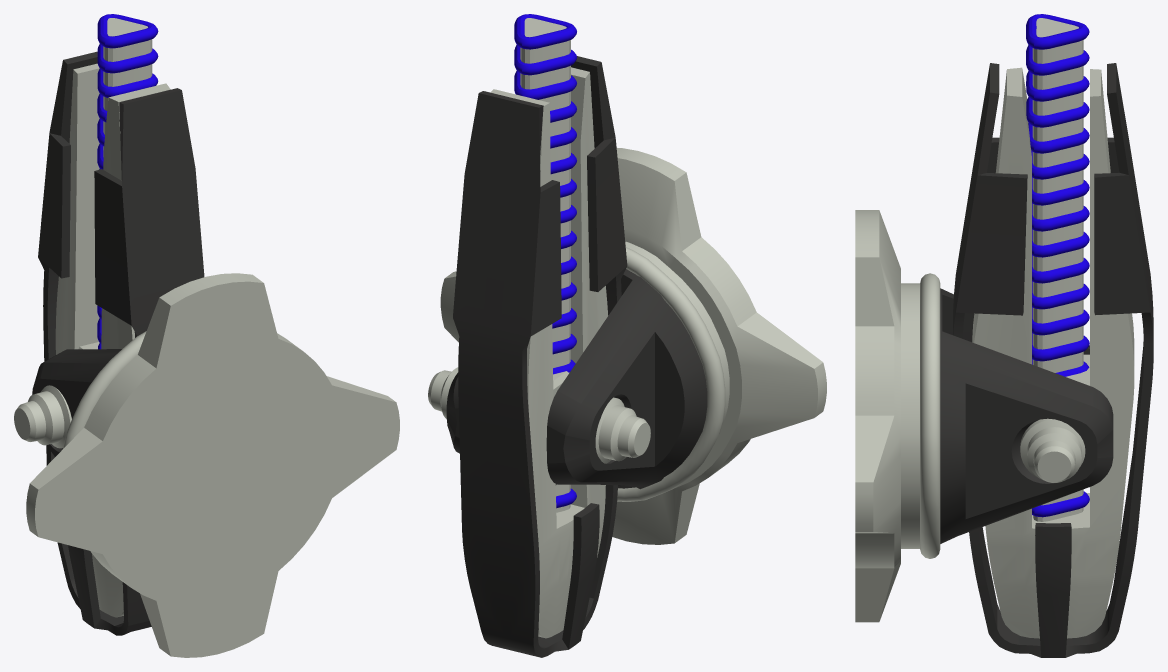
The model's file is PlasmaCanon2.fbx.
The picture shows the model from 3 angles, left to right: view 1: azimuth 30°, elevation 25°; view 2: azimuth 150°, elevation 25°; view 3: azimuth 270°, elevation 25°; orthographic projection. The views are drawn at different scales.
Visible parts, largest first — view 1: Cylinder.002, Cylinder.009, Cylinder.007, Cylinder.006_Curve, Cylinder.004, Cylinder.005, Cylinder.006, Cylinder.004_Curve; view 2: Cylinder.009, Cylinder.002, Cylinder.004, Cylinder.007, Cylinder.006_Curve, Cylinder.004_Curve, Cylinder.006, Cylinder.005; view 3: Cylinder.009, Cylinder.007, Cylinder.004, Cylinder.002, Cylinder.006_Curve, Cylinder.006, Cylinder.004_Curve, Cylinder.005.
Part boxes in pixels (x1,y1,x2,y2): Cylinder.002: (26, 273, 399, 657); Cylinder.009: (38, 51, 204, 635); Cylinder.007: (55, 63, 170, 617); Cylinder.006_Curve: (97, 14, 158, 349); Cylinder.004: (32, 349, 121, 456); Cylinder.005: (14, 385, 71, 448); Cylinder.006: (103, 18, 152, 156); Cylinder.004_Curve: (63, 331, 146, 448); Cylinder.009: (453, 56, 627, 657); Cylinder.002: (440, 148, 826, 544); Cylinder.004: (446, 269, 707, 489); Cylinder.007: (490, 67, 608, 638); Cylinder.006_Curve: (514, 14, 576, 508); Cylinder.004_Curve: (617, 247, 725, 501); Cylinder.006: (520, 18, 570, 512); Cylinder.005: (428, 367, 650, 463); Cylinder.009: (953, 63, 1153, 657); Cylinder.007: (972, 67, 1134, 638); Cylinder.004: (940, 288, 1113, 543); Cylinder.002: (855, 210, 919, 622); Cylinder.006_Curve: (1026, 14, 1089, 517); Cylinder.006: (1032, 18, 1083, 521); Cylinder.004_Curve: (920, 273, 940, 558); Cylinder.005: (1020, 418, 1085, 482).
Bounding box in the file's own units: 1669 × 2580 × 1134.
